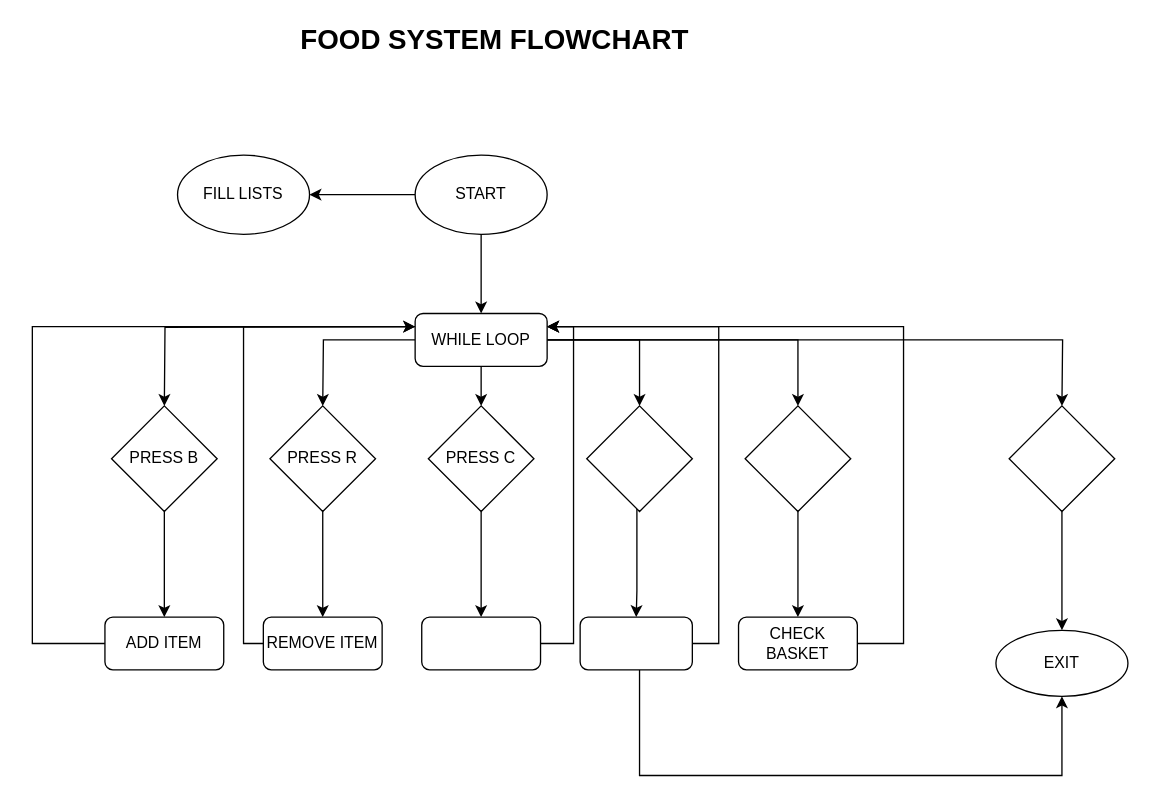
The diagram is 1151 pixels wide and 809 high, and some of its shapes have lost their labels. Here are the shapes that lost their labels. From the top down, the box of each, then its label:
(585, 405, 692, 512): PRESS F
(744, 405, 851, 512): PRESS S
(1008, 405, 1115, 512): PRESS E
(420, 616, 541, 670): CHECK STOCK
(579, 616, 692, 670): FINALIZE PAYMENT
